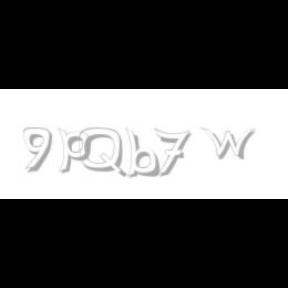7: (154, 128, 192, 178)
9: (24, 128, 53, 172)
Q: (79, 128, 125, 178)
b: (125, 128, 163, 178)
p: (58, 128, 94, 174)
w: (200, 128, 260, 160)
